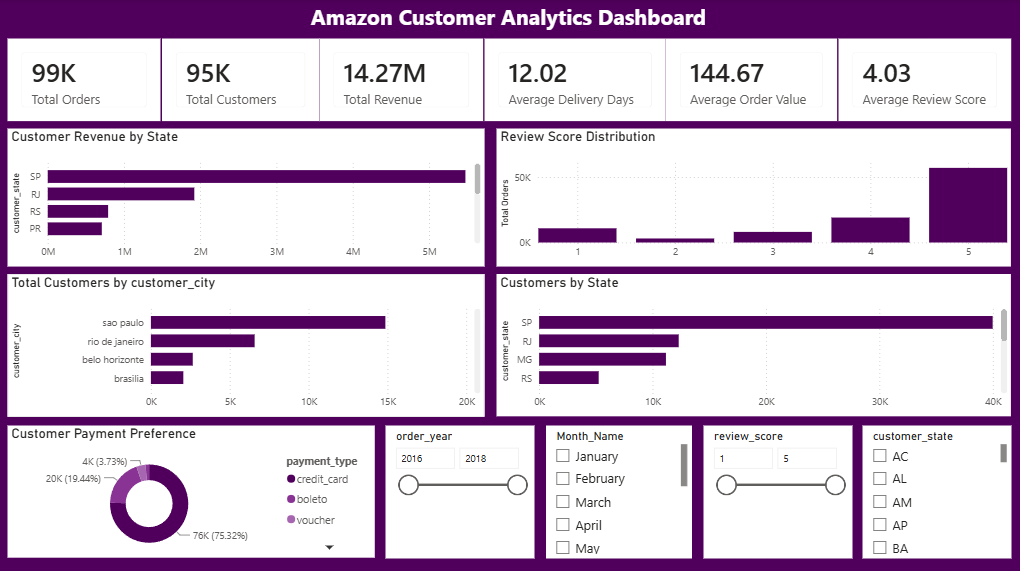

The page's visual inventory and layout, read from the dashboard file:
{"tool":"powerbi","page":{"name":"Customer Dashboard","canvas":[1280,720],"ordinal":2},"visuals":[{"type":"textbox","box":[0,0,1279.4,50.7],"z":0},{"type":"cardVisual","fields":{"Data":["PowerBI_Dataset.Average Delivery Days"]},"box":[609.7,50.7,227,103.2],"z":1000},{"type":"cardVisual","fields":{"Data":["PowerBI_Dataset.Average Order Value"]},"box":[836.7,50.7,213.9,103.2],"z":2000},{"type":"cardVisual","fields":{"Data":["PowerBI_Dataset.Average Review Score"]},"box":[1052.4,50.7,215.7,103.2],"z":3000},{"type":"cardVisual","fields":{"Data":["PowerBI_Dataset.Total Customers"]},"box":[206.4,50.7,197,103.2],"z":4000},{"type":"cardVisual","fields":{"Data":["PowerBI_Dataset.Total Orders"]},"box":[13.1,50.7,191.3,103.2],"z":5000},{"type":"cardVisual","fields":{"Data":["PowerBI_Dataset.Total Revenue"]},"box":[403.3,50.7,204.5,103.2],"z":6000},{"type":"clusteredBarChart","title":"Customers by State","fields":{"Category":["PowerBI_Dataset.customer_state"],"Y":["PowerBI_Dataset.Total Customers"]},"box":[624.7,345.2,643.4,178.2],"z":7000},{"type":"clusteredBarChart","title":"Customer Revenue by State","fields":{"Category":["PowerBI_Dataset.customer_state"],"Y":["PowerBI_Dataset.Total Revenue"]},"box":[13.1,163.2,596.5,172.6],"z":8000},{"type":"clusteredColumnChart","title":"Review Score Distribution","fields":{"Category":["PowerBI_Dataset.review_score"],"Y":["PowerBI_Dataset.Total Orders"]},"box":[624.7,163.2,643.4,172.6],"z":9000},{"type":"clusteredBarChart","fields":{"Category":["PowerBI_Dataset.customer_city"],"Y":["PowerBI_Dataset.Total Customers"]},"box":[13.1,345.2,596.5,178.2],"z":10000},{"type":"donutChart","title":"Customer Payment Preference","fields":{"Category":["PowerBI_Dataset.payment_type"],"Y":["PowerBI_Dataset.Total Orders"]},"box":[13.1,534.6,459.6,165.1],"z":11000},{"type":"slicer","fields":{"Values":["PowerBI_Dataset.Month_Name"]},"box":[686.6,534.6,182,165.1],"z":12000},{"type":"slicer","fields":{"Values":["PowerBI_Dataset.order_year"]},"box":[485.9,534.6,185.7,165.1],"z":13000},{"type":"slicer","fields":{"Values":["PowerBI_Dataset.customer_state"]},"box":[1082.4,534.6,185.7,165.1],"z":14000},{"type":"slicer","fields":{"Values":["PowerBI_Dataset.review_score"]},"box":[883.6,534.6,185.7,165.1],"z":15000}]}

Visuals, with their boxes in screenshot pixels (x1, y1, x2, y2), scaled from the page's 1280x720 canvas onto the 1020x571 screenshot:
textbox: (left=0, top=0, right=1019, bottom=40)
cardVisual - PowerBI_Dataset.Average Delivery Days: (left=486, top=40, right=667, bottom=122)
cardVisual - PowerBI_Dataset.Average Order Value: (left=667, top=40, right=837, bottom=122)
cardVisual - PowerBI_Dataset.Average Review Score: (left=839, top=40, right=1011, bottom=122)
cardVisual - PowerBI_Dataset.Total Customers: (left=164, top=40, right=321, bottom=122)
cardVisual - PowerBI_Dataset.Total Orders: (left=10, top=40, right=163, bottom=122)
cardVisual - PowerBI_Dataset.Total Revenue: (left=321, top=40, right=484, bottom=122)
"Customers by State" clusteredBarChart: (left=498, top=274, right=1011, bottom=415)
"Customer Revenue by State" clusteredBarChart: (left=10, top=129, right=486, bottom=266)
"Review Score Distribution" clusteredColumnChart: (left=498, top=129, right=1011, bottom=266)
clusteredBarChart - PowerBI_Dataset.customer_city x PowerBI_Dataset.Total Customers: (left=10, top=274, right=486, bottom=415)
"Customer Payment Preference" donutChart: (left=10, top=424, right=377, bottom=555)
slicer - PowerBI_Dataset.Month_Name: (left=547, top=424, right=692, bottom=555)
slicer - PowerBI_Dataset.order_year: (left=387, top=424, right=535, bottom=555)
slicer - PowerBI_Dataset.customer_state: (left=863, top=424, right=1011, bottom=555)
slicer - PowerBI_Dataset.review_score: (left=704, top=424, right=852, bottom=555)
